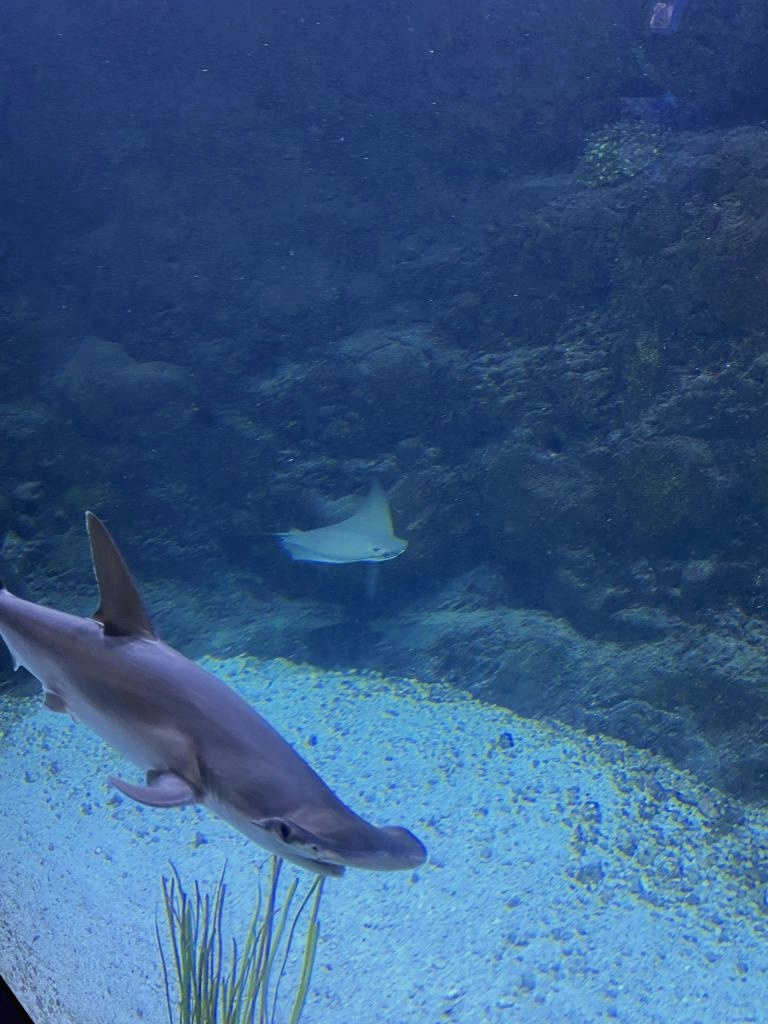shark: (0, 524, 424, 878)
stingray: (280, 474, 426, 586)
